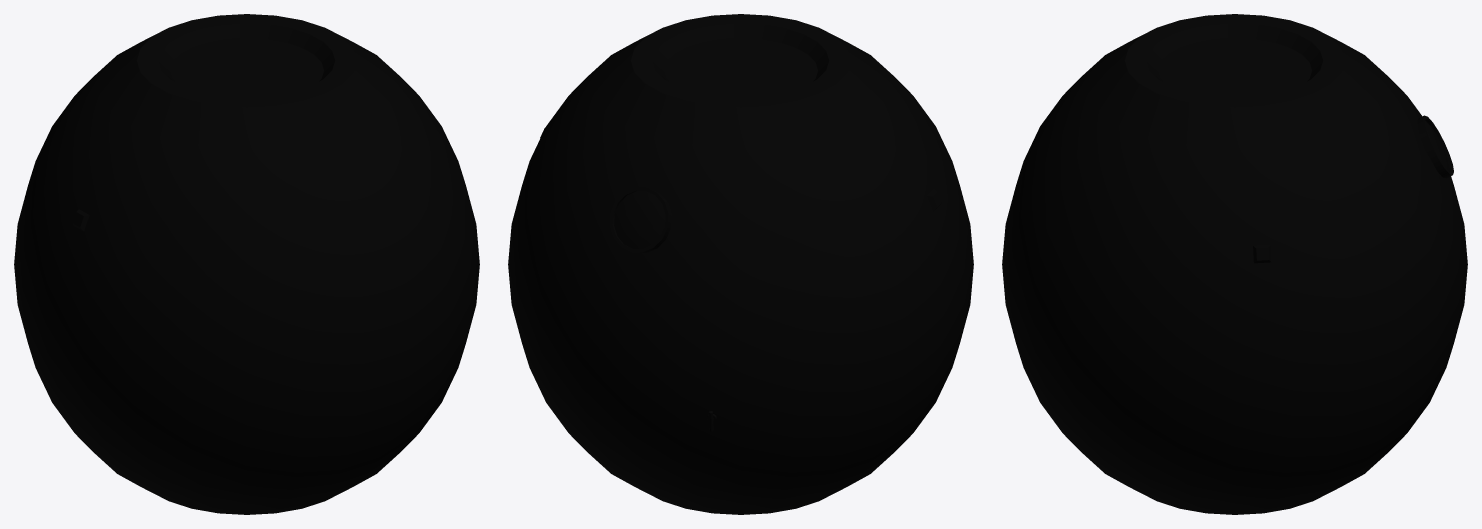
The model's file is Tantares_Orbital_1.obj.
The picture shows the model from 3 angles, left to right: view 1: azimuth 30°, elevation 25°; view 2: azimuth 150°, elevation 25°; view 3: azimuth 270°, elevation 25°; orthographic projection.
Visible parts, largest first — view 1: Tantares_Orbital_A; view 2: Tantares_Orbital_A, Tantares_Orbital_A_Window; view 3: Tantares_Orbital_A.
Boxes of the visible parts, box(x1,y1,x2,y2) form: Tantares_Orbital_A: box(14, 14, 479, 514); Tantares_Orbital_A: box(508, 14, 973, 514); Tantares_Orbital_A_Window: box(614, 191, 665, 248); Tantares_Orbital_A: box(1002, 14, 1467, 514).
Bounding box in the file's own units: 1.32 × 1.27 × 1.32.
Materials: 2 (2 with a texture image).
